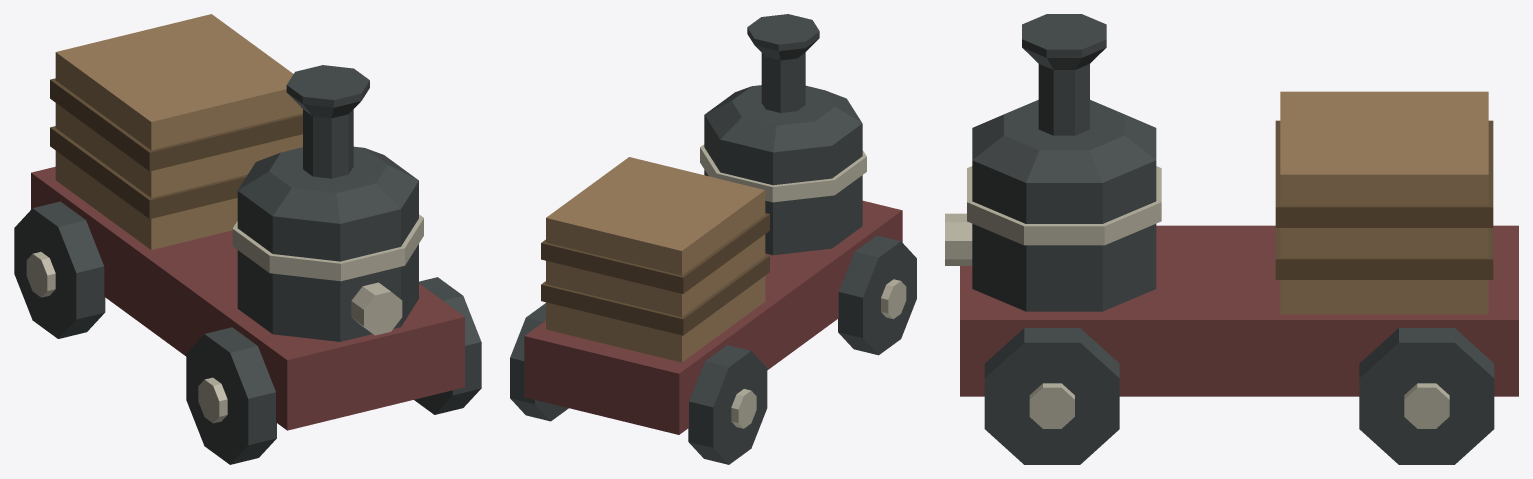
The model's file is cart.glb.
The picture shows the model from 3 angles, left to right: view 1: azimuth 30°, elevation 25°; view 2: azimuth 150°, elevation 25°; view 3: azimuth 270°, elevation 25°; orthographic projection. The views are drawn at different scales.
Parts seen in each view (by area): view 1: Crate, Body, Boiler, Lid, WheelRL, WheelFL, Slat1, Slat0, Band, Stack, WheelFR, Cap (+4 smaller); view 2: Crate, Body, Boiler, Lid, WheelRL, WheelFL, Slat0, Slat1, Band, Stack, Cap, WheelRR (+3 smaller); view 3: Body, Crate, Boiler, WheelRR, WheelFR, Lid, Slat1, Slat0, Band, Stack, Cap, HubFR (+3 smaller).
Boxes of the visible parts, box(x1,y1,x2,y2) form: Crate: box(55, 14, 302, 249); Body: box(31, 166, 464, 430); Boiler: box(237, 181, 418, 341); Lid: box(238, 146, 418, 223); WheelRL: box(14, 201, 105, 338); WheelFL: box(186, 327, 276, 464); Slat1: box(50, 78, 302, 171); Slat0: box(50, 126, 247, 218); Band: box(232, 214, 423, 281); Stack: box(303, 109, 353, 178); WheelFR: box(414, 277, 481, 414); Cap: box(286, 65, 369, 107); Crate: box(546, 157, 765, 362); Body: box(524, 200, 902, 434); Boiler: box(704, 115, 862, 255); Lid: box(704, 85, 862, 152); WheelRL: box(688, 345, 767, 464); WheelFL: box(838, 235, 916, 355); Slat0: box(541, 254, 769, 335); Slat1: box(541, 213, 769, 293); Band: box(700, 144, 866, 202); Stack: box(761, 52, 805, 112); Cap: box(747, 14, 819, 50); WheelRR: box(510, 303, 568, 421); Body: box(960, 225, 1518, 396); Crate: box(1280, 91, 1488, 314); Boiler: box(972, 160, 1156, 311); WheelRR: box(1359, 328, 1494, 464); WheelFR: box(984, 328, 1119, 464); Lid: box(972, 100, 1156, 182); Slat1: box(1275, 120, 1493, 227); Slat0: box(1275, 228, 1493, 279); Band: box(967, 166, 1161, 245); Stack: box(1038, 64, 1089, 135); Cap: box(1022, 14, 1106, 57); HubFR: box(1029, 383, 1074, 428).
Bounding box in the file's own units: 1.04 × 1.36 × 1.9.
